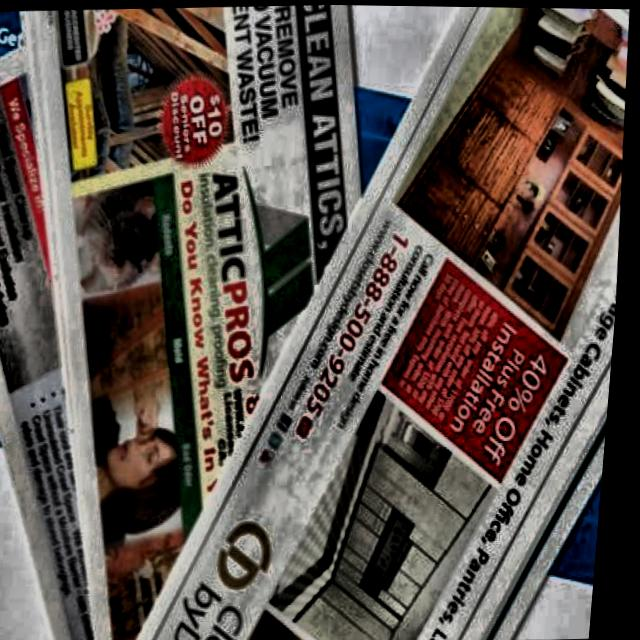Paper: (0, 0, 640, 606), (123, 2, 640, 640), (0, 0, 391, 640), (0, 39, 140, 640)
